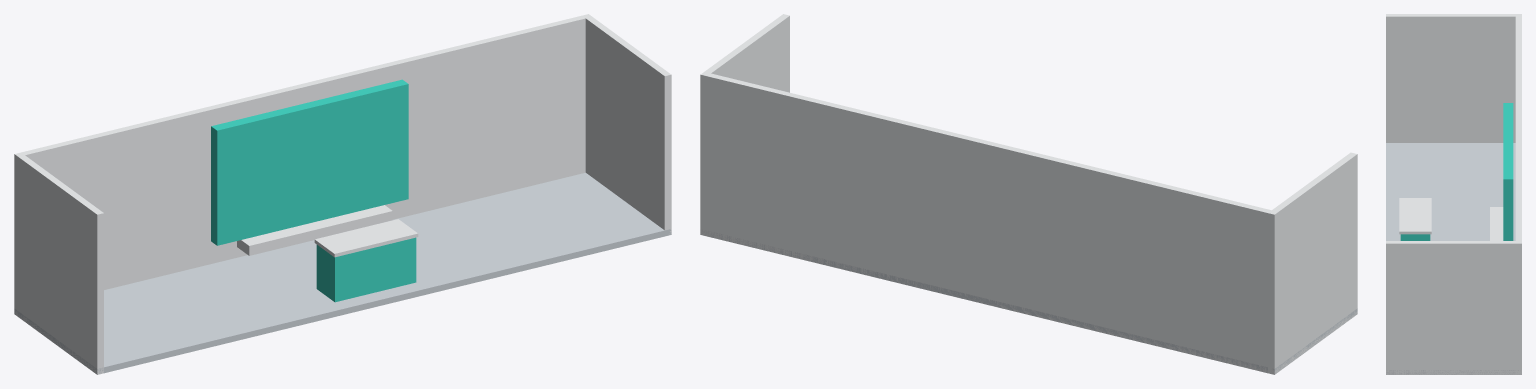
3 renders of one model, left to right at view 1: azimuth 30°, elevation 25°; view 2: azimuth 150°, elevation 25°; view 3: azimuth 270°, elevation 25°, orthographic. The views are drawn at different scales.
Visible parts, largest first — view 1: Exhibition Booth Concept; view 2: Exhibition Booth Concept; view 3: Exhibition Booth Concept.
Part boxes in pixels (left/top/right/bottom): Exhibition Booth Concept: left=14, top=14, right=671, bottom=374; Exhibition Booth Concept: left=700, top=14, right=1357, bottom=374; Exhibition Booth Concept: left=1386, top=14, right=1521, bottom=374.
Bounding box in the file's own units: 12 × 3.2 × 3.
